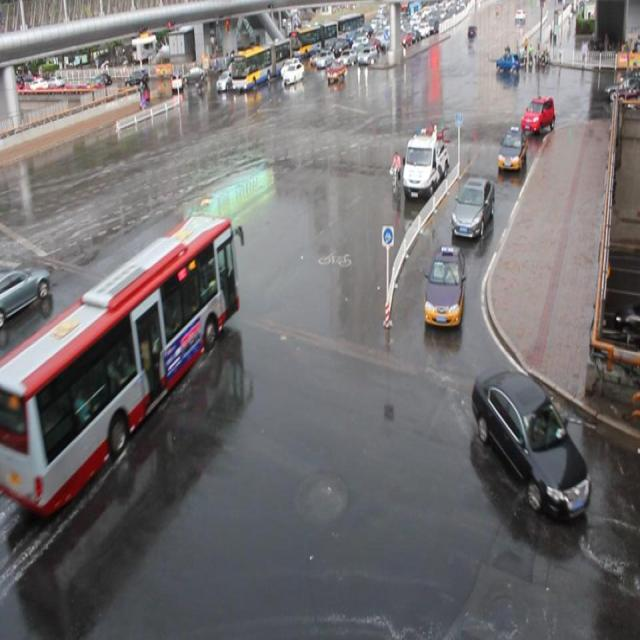bus: (402, 127, 448, 199)
car: (471, 365, 590, 517), (422, 244, 465, 325), (0, 262, 50, 323), (449, 176, 494, 238), (496, 124, 527, 172), (519, 96, 554, 135), (216, 69, 235, 92)
van: (1, 211, 240, 516)
